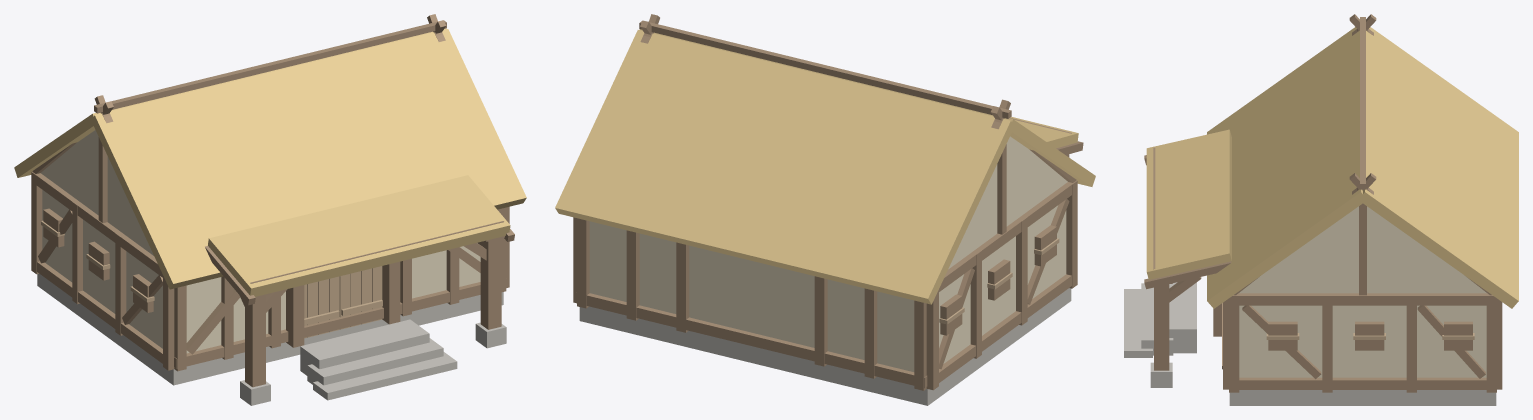
Rendered from hall.glb.
The picture shows the model from 3 angles, left to right: view 1: azimuth 30°, elevation 25°; view 2: azimuth 150°, elevation 25°; view 3: azimuth 270°, elevation 25°; orthographic projection. The views are drawn at different scales.
Parts seen in each view (by area): view 1: hall_roof, hall_wood, hall_stone, hall_plaster, hall_door, hall_window; view 2: hall_roof, hall_plaster, hall_wood, hall_stone, hall_window; view 3: hall_roof, hall_plaster, hall_wood, hall_stone, hall_window, hall_door.
Boxes of the visible parts, left/top/right/bottom form: hall_roof: left=14, top=28, right=526, bottom=296; hall_wood: left=31, top=14, right=514, bottom=387; hall_stone: left=37, top=273, right=506, bottom=405; hall_plaster: left=41, top=130, right=480, bottom=353; hall_door: left=41, top=220, right=382, bottom=338; hall_window: left=43, top=208, right=153, bottom=312; hall_roof: left=555, top=29, right=1095, bottom=304; hall_plaster: left=589, top=136, right=1067, bottom=371; hall_wood: left=573, top=14, right=1083, bottom=390; hall_stone: left=579, top=288, right=1071, bottom=405; hall_window: left=940, top=225, right=1056, bottom=335; hall_roof: left=1146, top=27, right=1518, bottom=308; hall_plaster: left=1239, top=206, right=1486, bottom=377; hall_wood: left=1144, top=14, right=1502, bottom=392; hall_stone: left=1124, top=282, right=1496, bottom=405; hall_window: left=1268, top=321, right=1472, bottom=350; hall_door: left=1266, top=333, right=1474, bottom=339.
Bounding box in the file's own units: 3 × 1.92 × 2.96.
